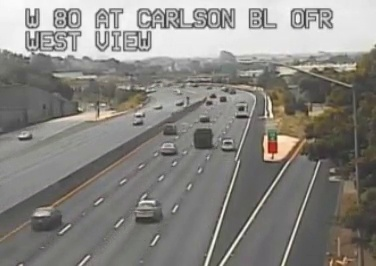car: (31, 207, 62, 230), (135, 200, 161, 220), (159, 142, 176, 155), (221, 138, 235, 150)
